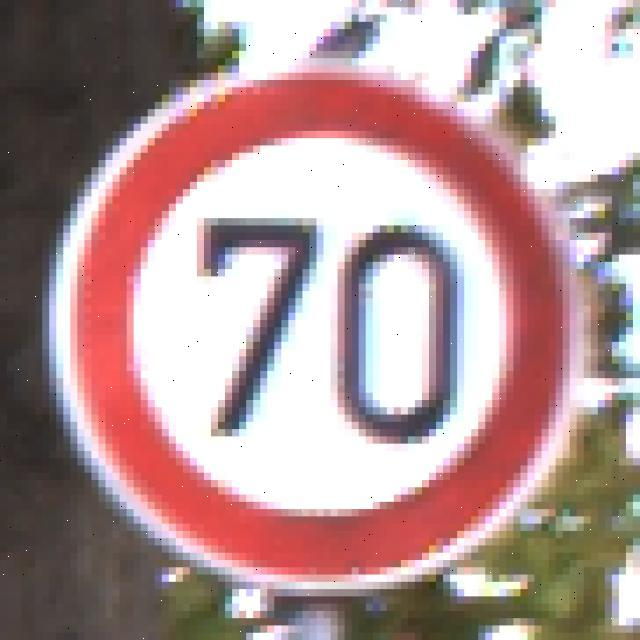speed limit 70: (50, 70, 576, 600)
